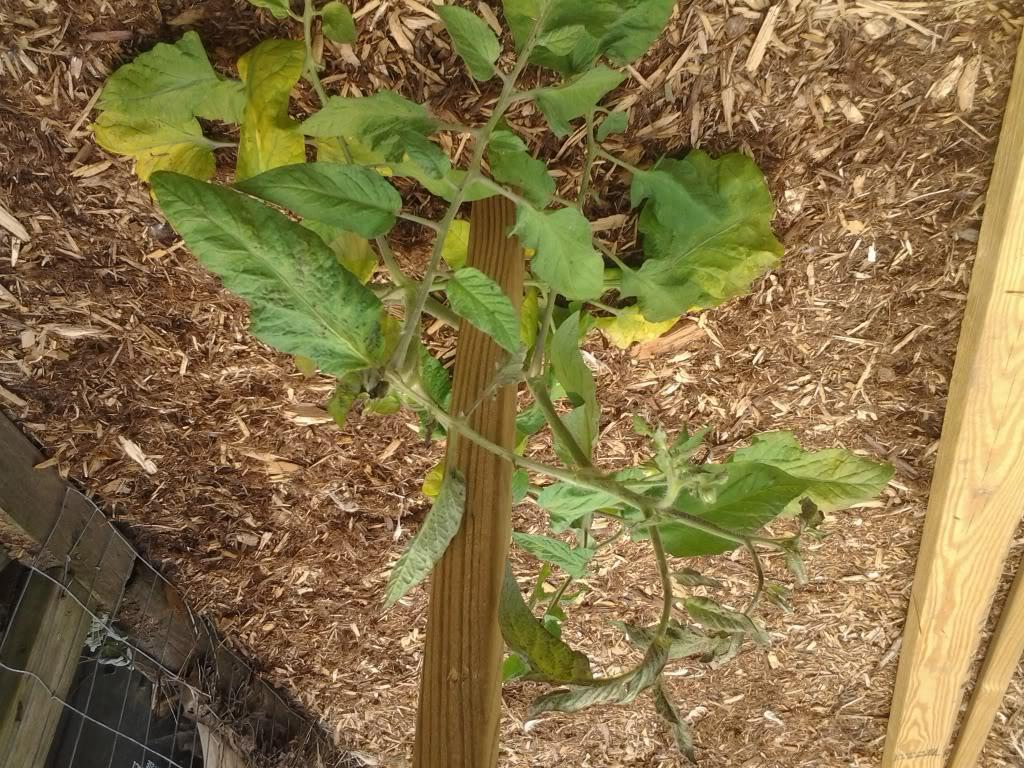Tomato leaf: (138, 174, 386, 379), (738, 432, 903, 514), (503, 187, 601, 322)
